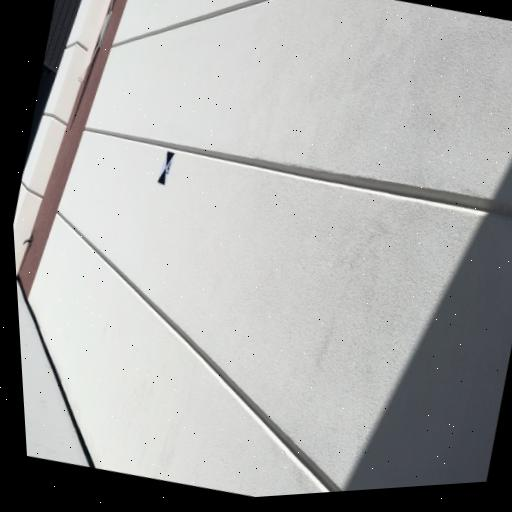target4: (157, 150, 176, 185)
